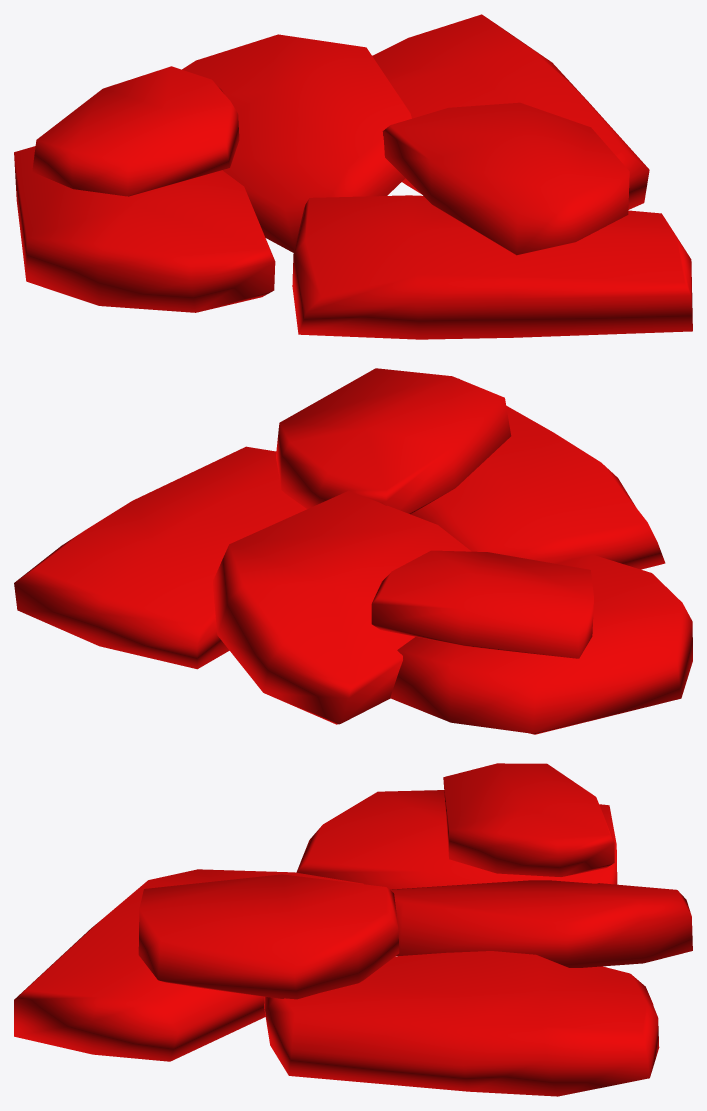
The model's file is Rubble_Debris_08_Lod0.fbx.
3 views of the same model, one above another, from view 1: azimuth 30°, elevation 25°; view 2: azimuth 150°, elevation 25°; view 3: azimuth 270°, elevation 25° (orthographic).
Parts seen in each view (by area): view 1: Rubble_Debris_08_Lod0; view 2: Rubble_Debris_08_Lod0; view 3: Rubble_Debris_08_Lod0.
Part boxes in pixels (x1,y1,x2,y2): Rubble_Debris_08_Lod0: (14, 14, 692, 339); Rubble_Debris_08_Lod0: (14, 368, 692, 734); Rubble_Debris_08_Lod0: (14, 763, 692, 1096).
Bounding box in the file's own units: 147 × 28.08 × 152.
